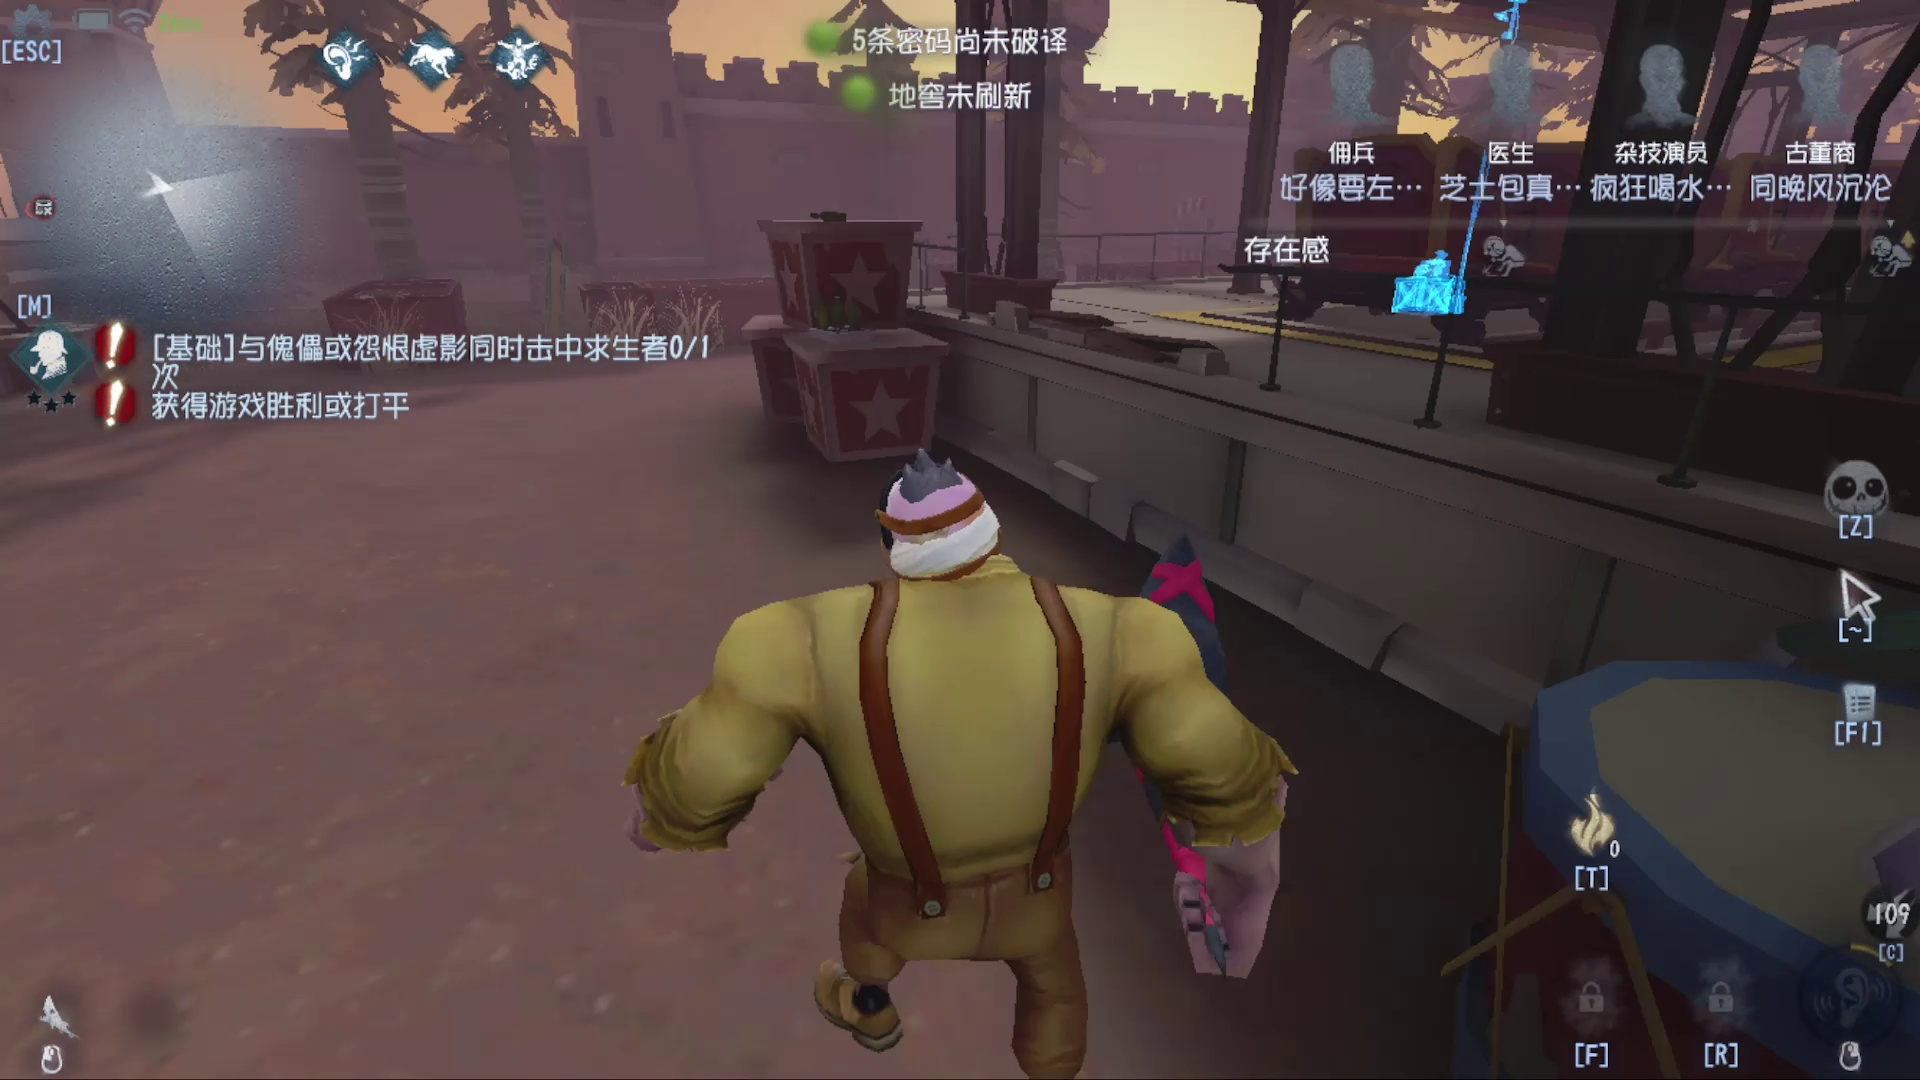木板: (513, 231, 595, 361)
